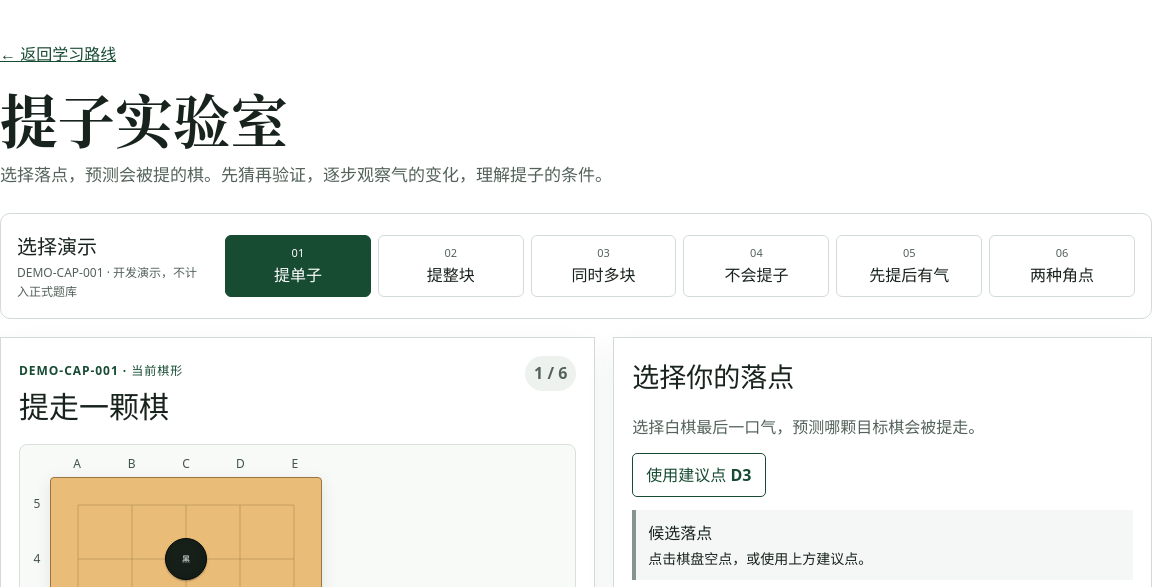
Test: T05 CaptureLab controller › selects a legal candidate, requires a prediction, and locks the board during playback
The width and height of the screenshot is (1152, 587).
Click the button "使用建议点 D3" at (699,475), box [632,453,766,498]
(page scrolled)
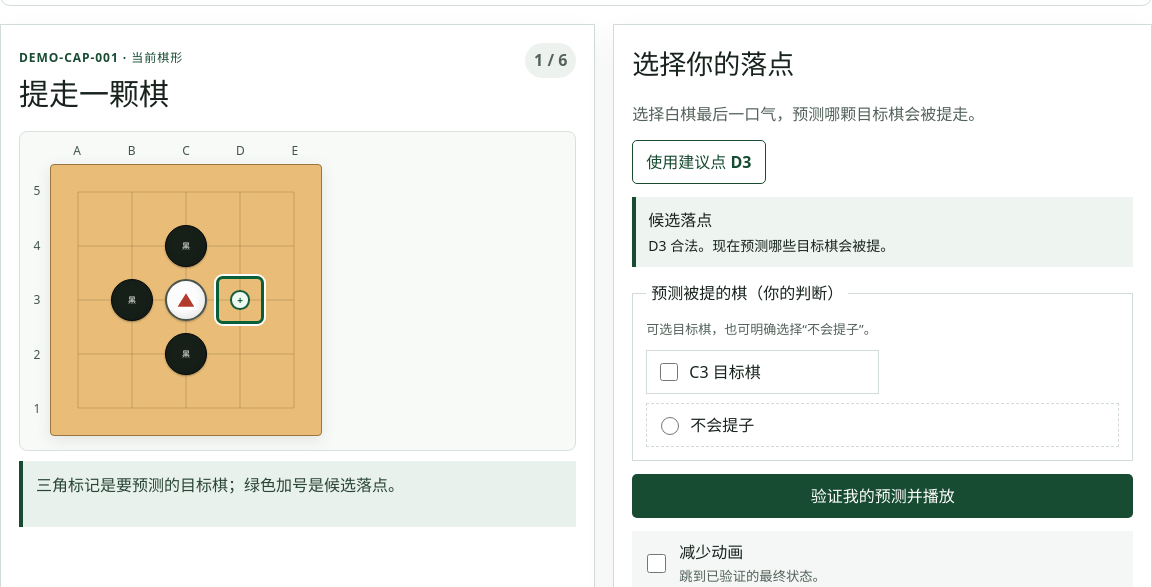
Expected: the text "D3 合法" is shown, [648,236,894,255]
Click the button "验证我的预测并播放" at (883,496), box [632,474,1133,518]
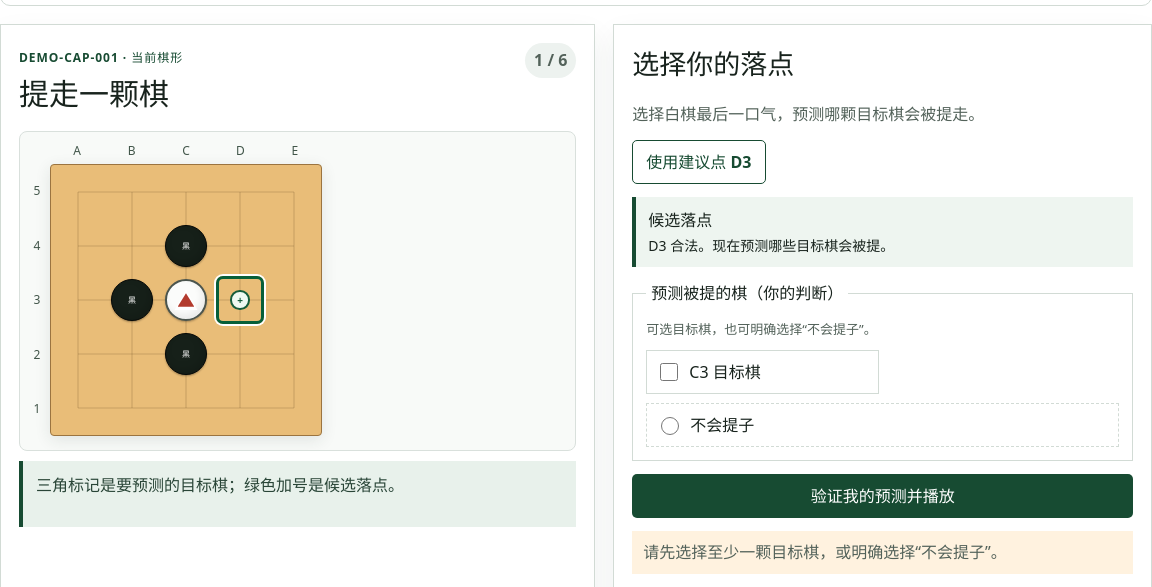
Expected: the text "请先选择至少一颗目标棋" is shown, [643,541,1007,563]
Click the checkbox labelled "C3 目标棋" at (669,372), box [660,363,678,381]
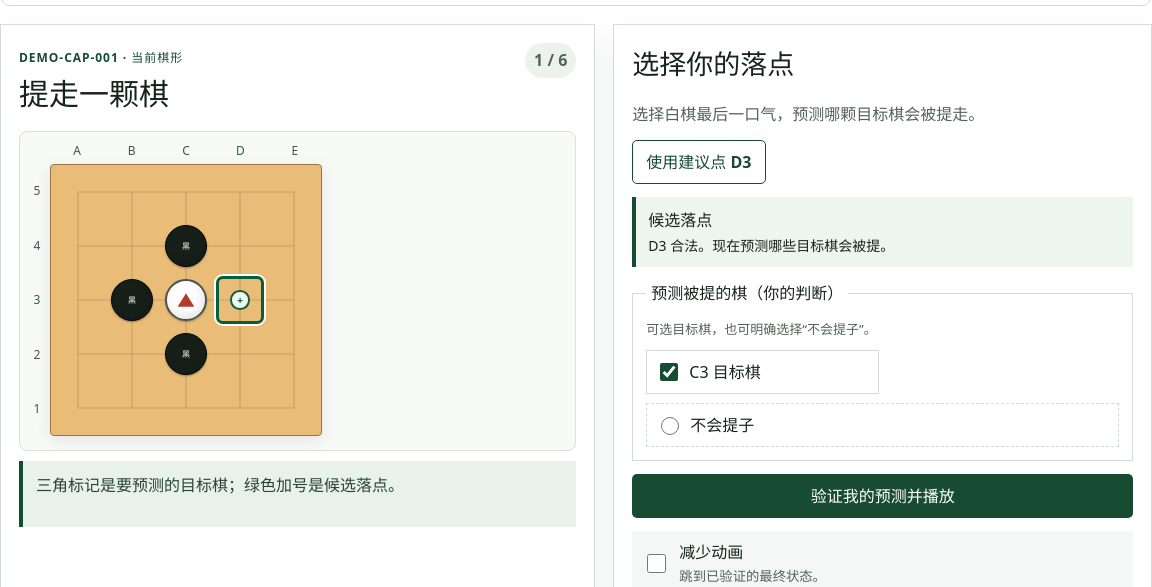
Click the button "验证我的预测并播放" at (883,496), box [632,474,1133,518]
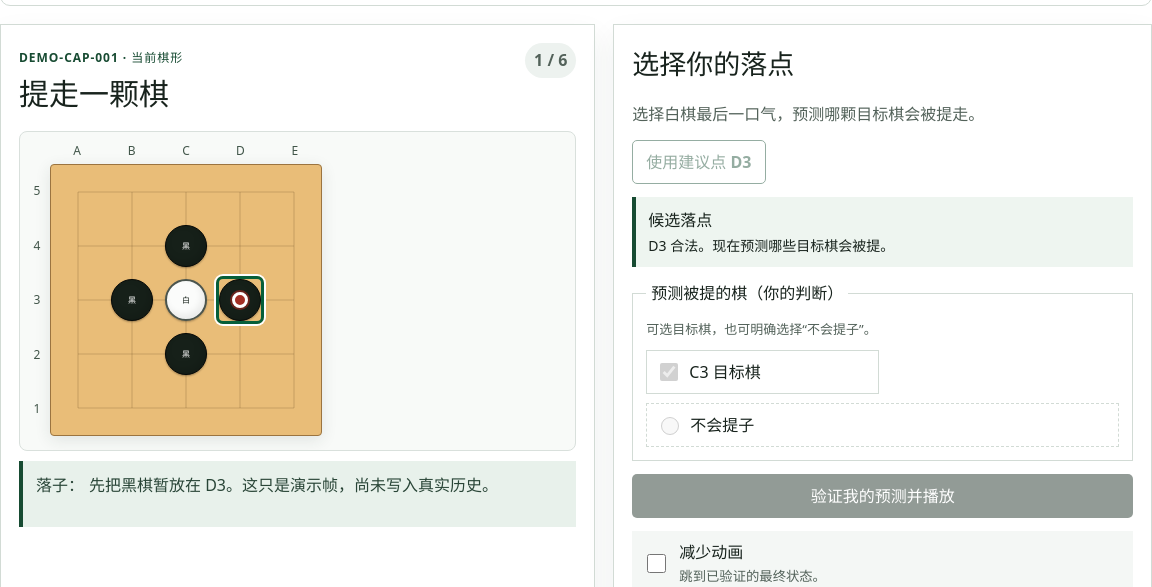
Expected: the element with class "capture-workspace" shows "落子", [36,474,68,496]
